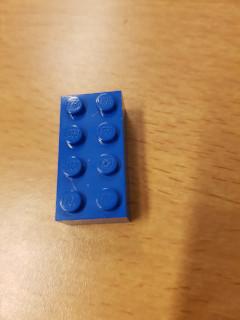2x4 blue: (54, 89, 132, 228)
